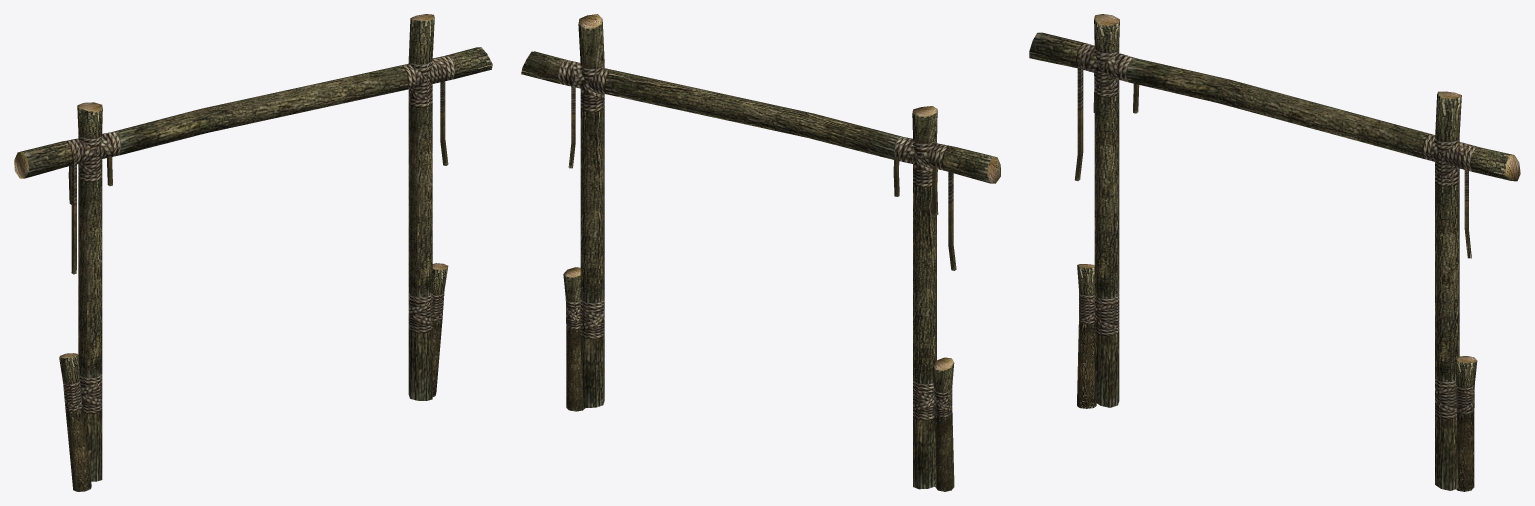
The model's file is thing_barricade_bar00.fbx.
3 renders of one model, left to right at view 1: azimuth 30°, elevation 25°; view 2: azimuth 150°, elevation 25°; view 3: azimuth 330°, elevation 25°, orthographic. The views are drawn at different scales.
Visible parts, largest first — view 1: thing_wood barricade_00; view 2: thing_wood barricade_00; view 3: thing_wood barricade_00.
Boxes of the visible parts, x1,y1,x2,y2 form: thing_wood barricade_00: (14, 14, 492, 491); thing_wood barricade_00: (521, 14, 1000, 491); thing_wood barricade_00: (1029, 14, 1520, 491).
Size of the model in its own units: 4.12 by 3.23 by 0.3084.
